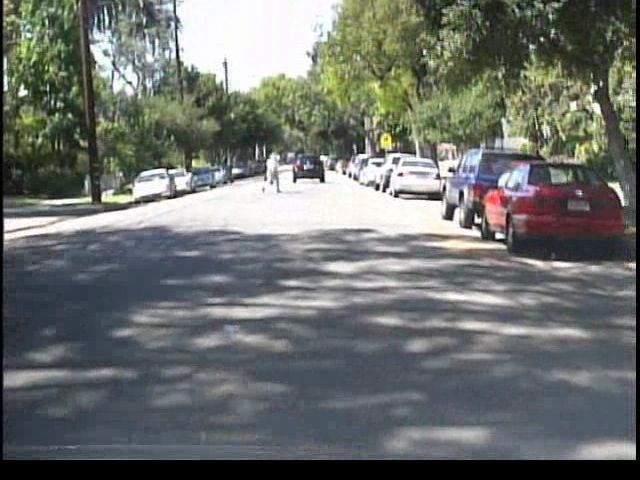person: (260, 139, 285, 187)
